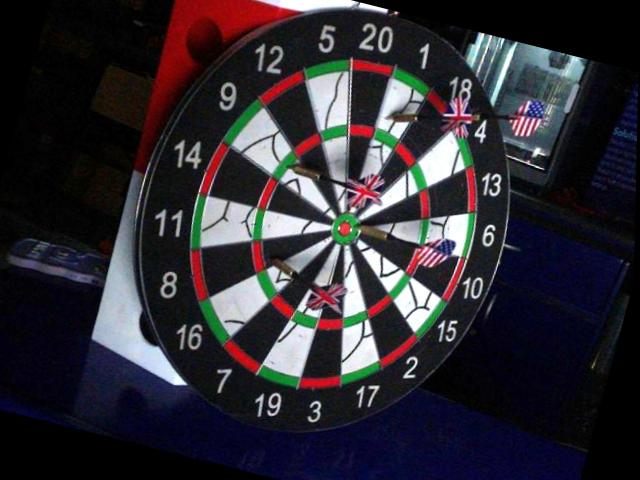bullseye: (335, 221, 358, 243)
single_1: (380, 87, 423, 138)
single_8: (262, 229, 329, 263)
triple_9: (274, 151, 294, 179)
